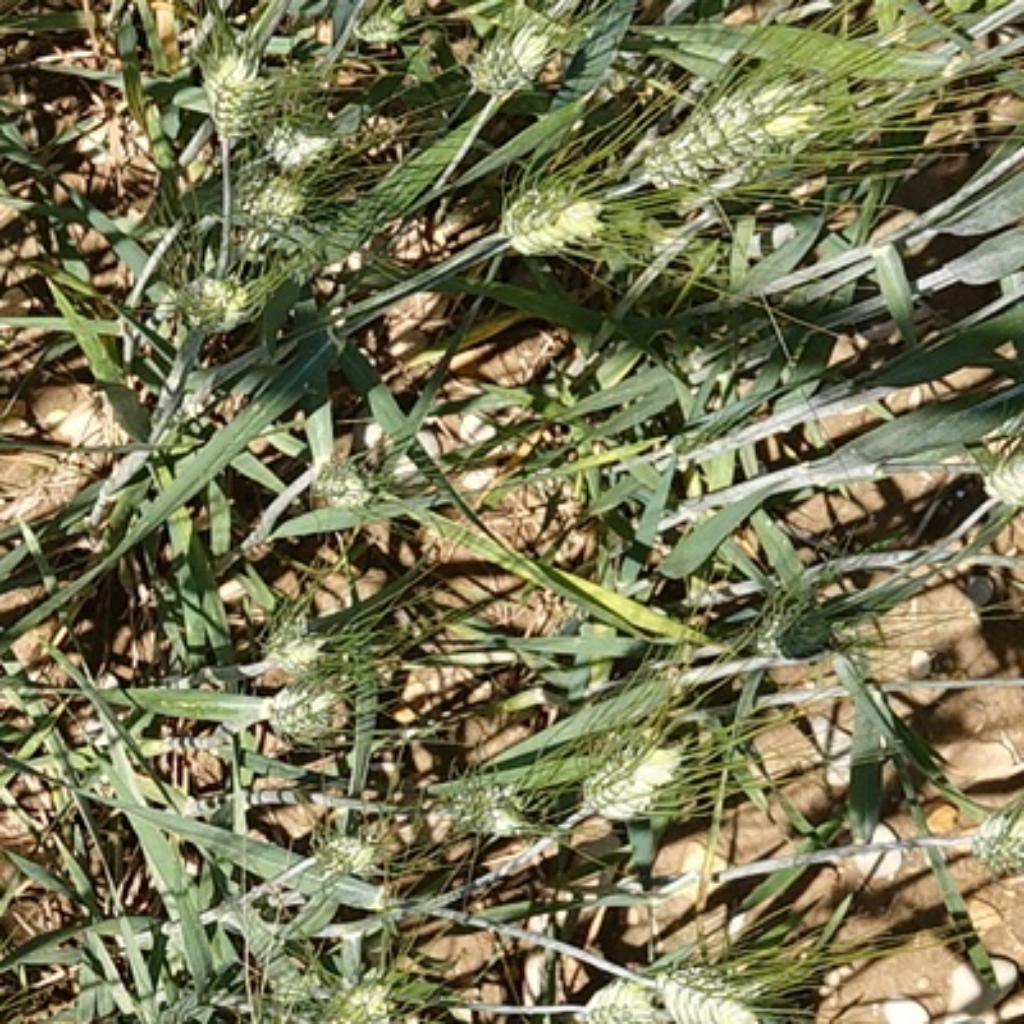0-0: (651, 75, 819, 202), (576, 731, 688, 816), (424, 755, 540, 837), (194, 33, 281, 138), (498, 172, 604, 253), (467, 17, 581, 92), (634, 963, 765, 1024), (258, 675, 355, 755), (742, 588, 839, 663), (250, 611, 332, 693), (243, 161, 325, 240), (258, 92, 345, 166), (304, 962, 404, 1024), (166, 264, 256, 330), (573, 965, 663, 1024), (311, 822, 391, 884), (308, 446, 381, 509), (963, 799, 1024, 873), (345, 2, 422, 53), (976, 449, 1024, 518)
